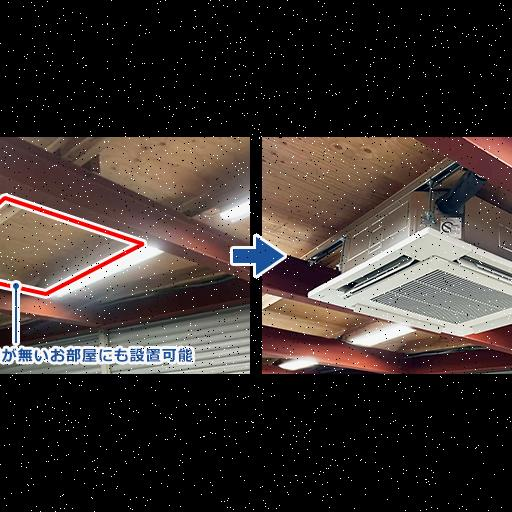4-way-ac: (308, 249, 512, 335)
